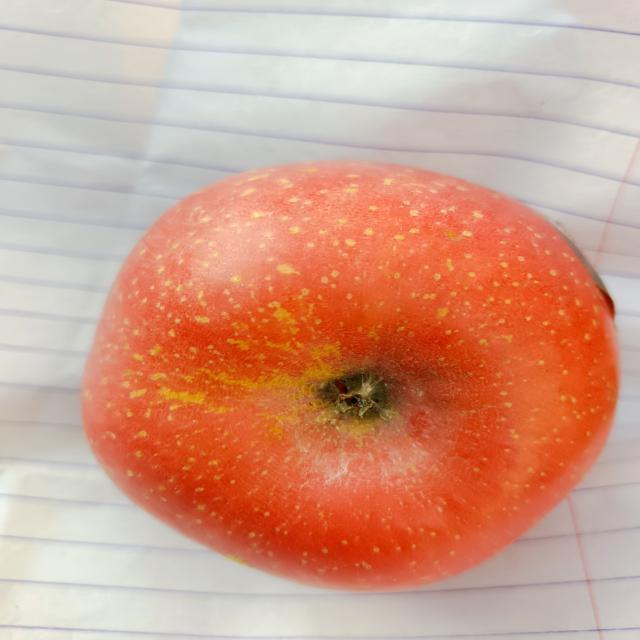Fresh Apple: (106, 173, 622, 597)
